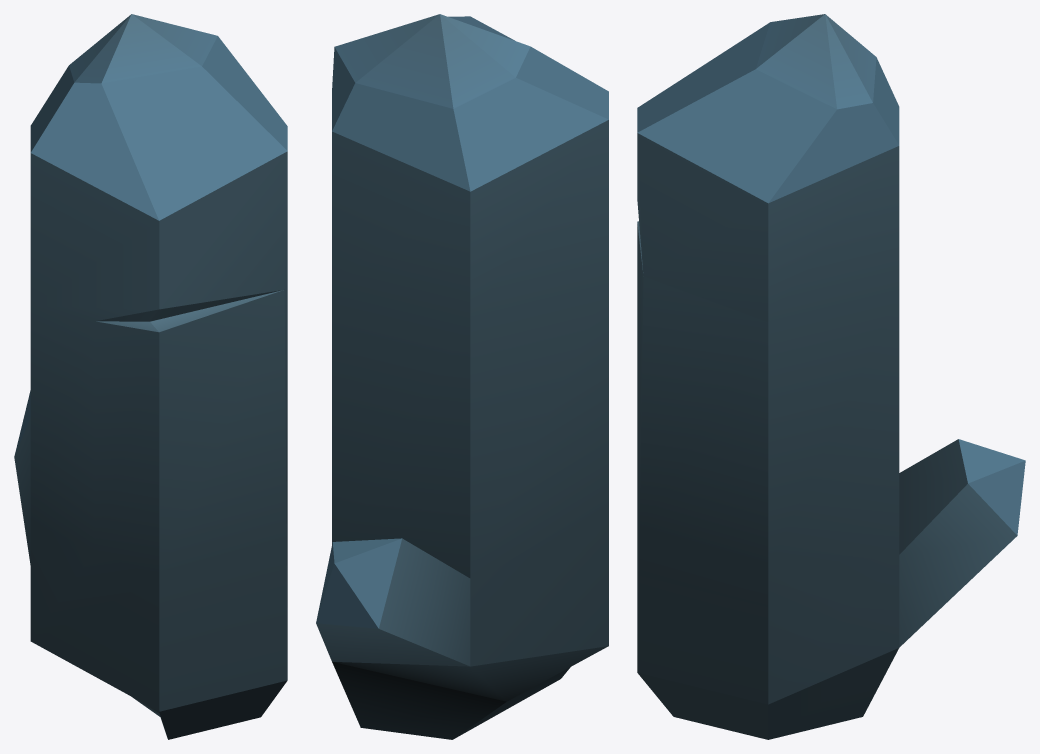
File: geology-crystals-calcitecrystal_v4.fbx
3 views of the same model, side by side, from view 1: azimuth 30°, elevation 25°; view 2: azimuth 150°, elevation 25°; view 3: azimuth 270°, elevation 25° (orthographic). The views are drawn at different scales.
Parts seen in each view (by area): view 1: CalciteCrystal_v4; view 2: CalciteCrystal_v4; view 3: CalciteCrystal_v4.
Boxes of the visible parts, x1,y1,x2,y2 form: CalciteCrystal_v4: (14,14,287,739); CalciteCrystal_v4: (316,14,608,739); CalciteCrystal_v4: (637,14,1025,739).
Bounding box in the file's own units: 2.74 × 7.03 × 3.51.
